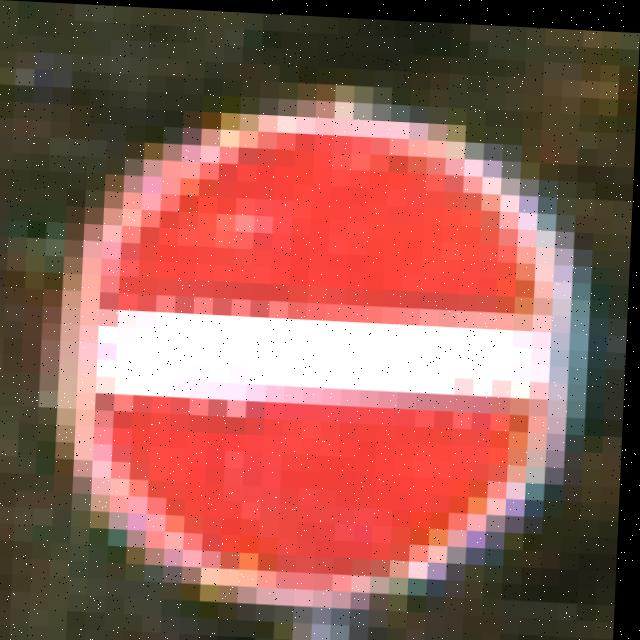road_rough: (82, 105, 573, 640)
